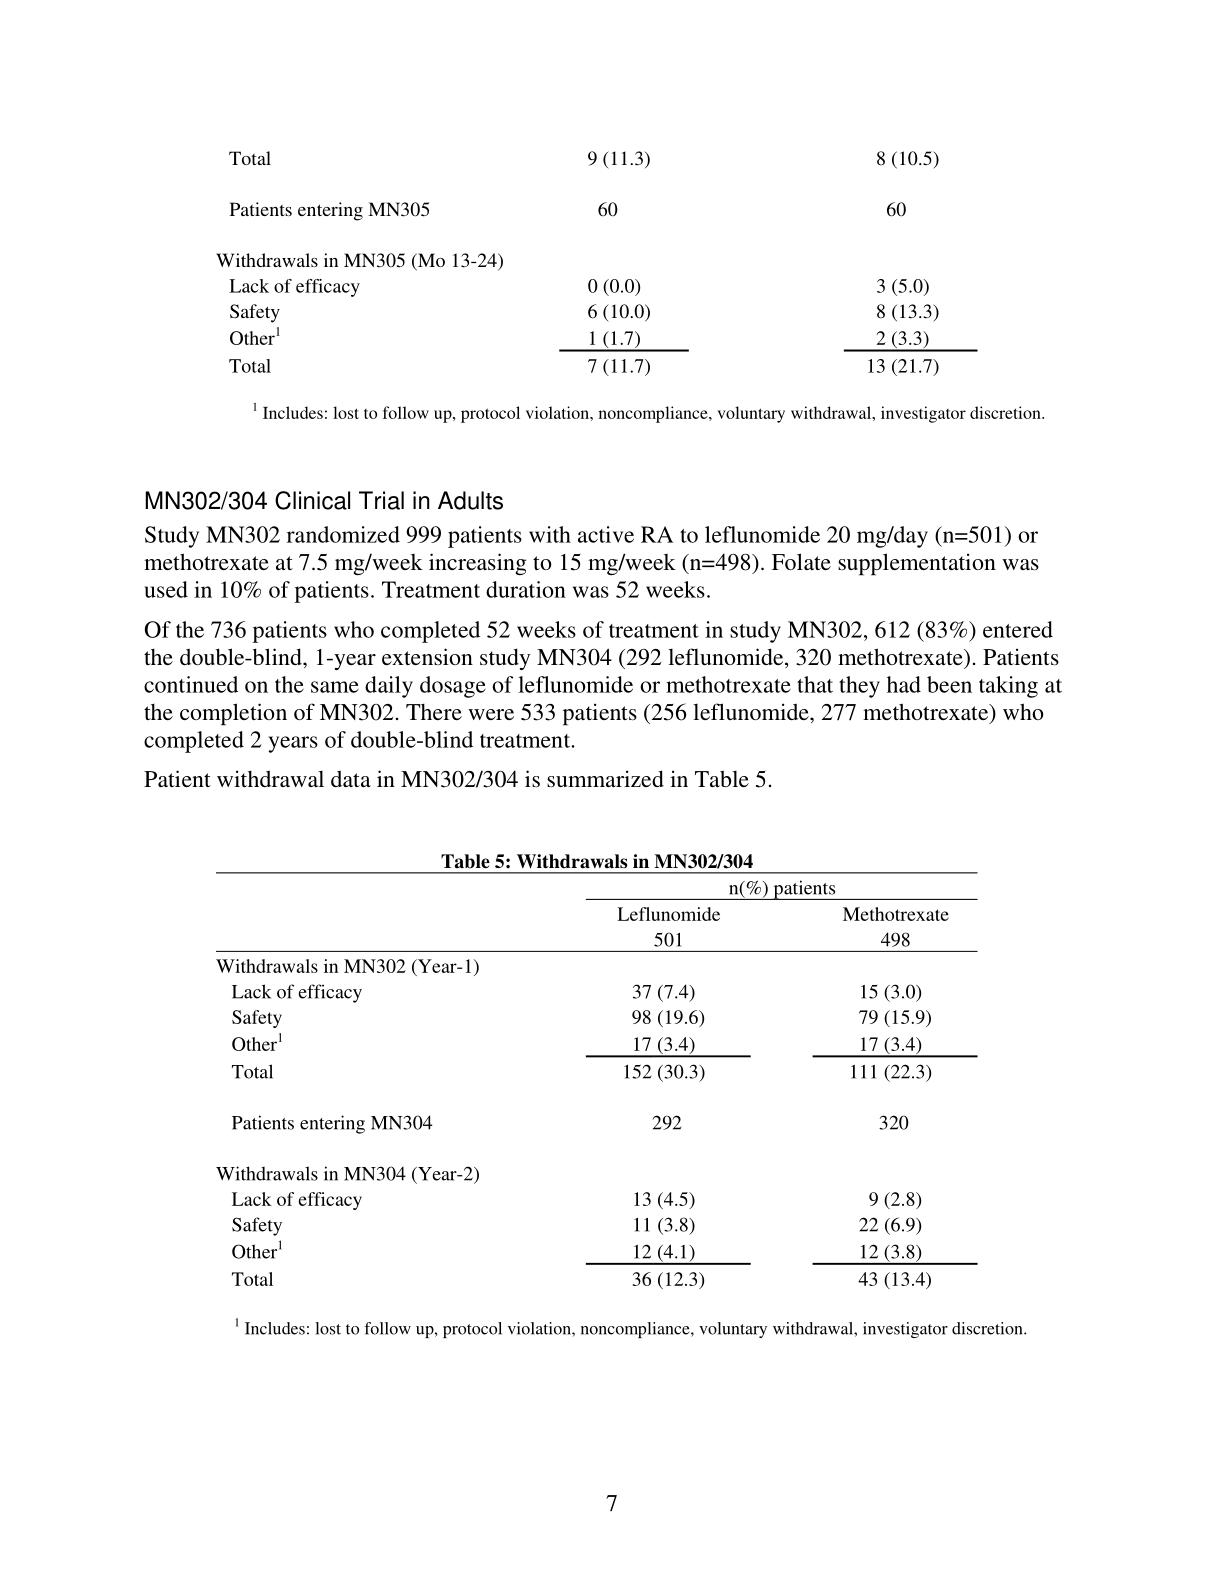nolines: (213, 145, 980, 378)
partial_lined_merged_cells: (215, 870, 977, 1291)
